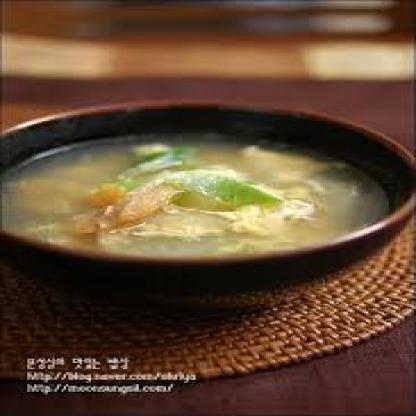dried pollack soup: (7, 104, 393, 263)
